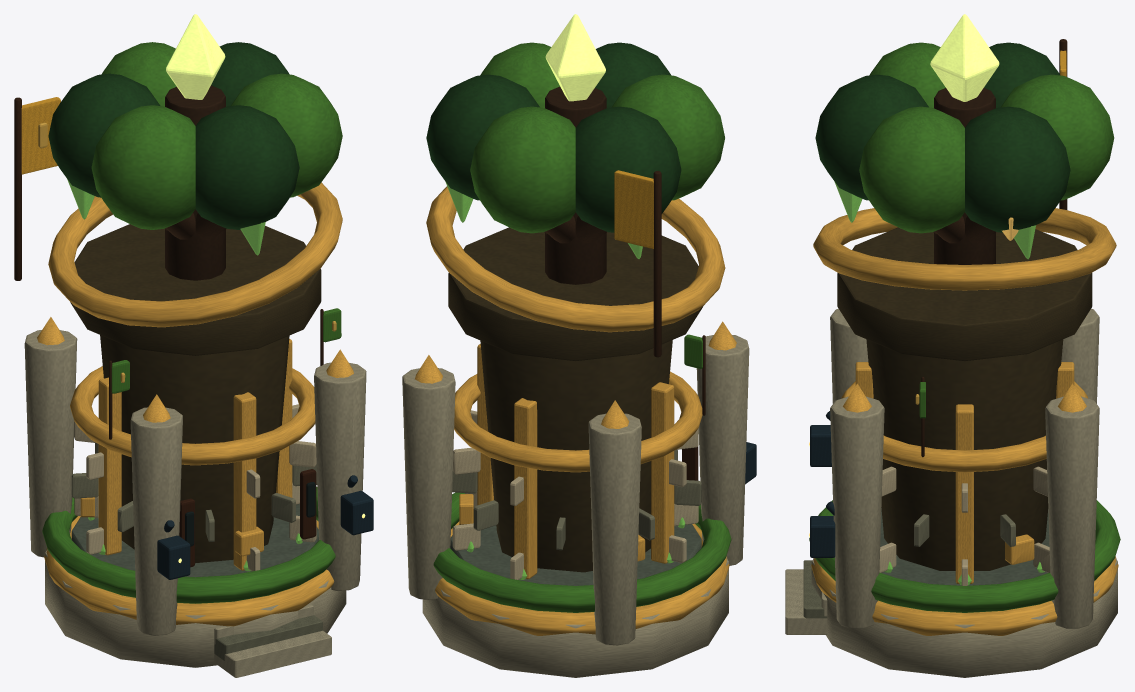
The model's file is tower-nature-3-1.glb.
3 views of the same model, side by side, from view 1: azimuth 30°, elevation 25°; view 2: azimuth 150°, elevation 25°; view 3: azimuth 270°, elevation 25° (orthographic).
Visible parts, largest first — view 1: Foundation, Turret, nature-L3-1; view 2: Foundation, Turret, nature-L3-1; view 3: Foundation, Turret, nature-L3-1.
Part boxes in pixels (box(x1,y1,x2,y2)): Foundation: box(14, 97, 373, 677); Turret: box(48, 14, 342, 355); nature-L3-1: box(45, 504, 346, 667); Foundation: box(402, 170, 756, 645); Turret: box(426, 14, 725, 360); nature-L3-1: box(422, 524, 728, 677); Foundation: box(785, 39, 1120, 635); Turret: box(813, 14, 1116, 360); nature-L3-1: box(811, 508, 1117, 677).
Size of the model in its own units: 1.71 by 3.63 by 1.84.
22 materials, 22 textured.
